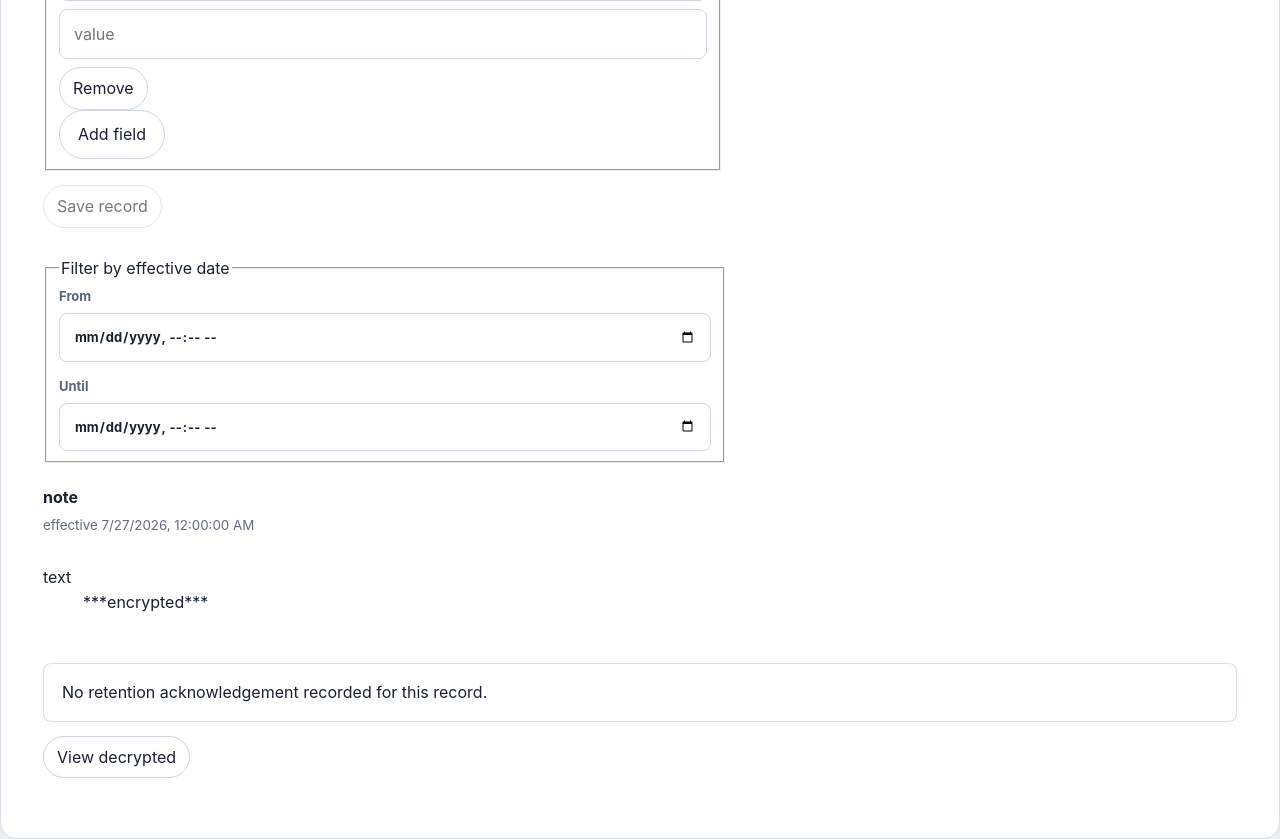
Scenario: RecordsPanel › fetches and shows the decrypted payload for a record with a redacted field
The width and height of the screenshot is (1280, 839).
(page scrolled)
Check: the text "***encrypted***" is shown, box [83,592,208,612]
Click the button "View decrypted": [117, 757] box [43,736,190,778]
(page scrolled)
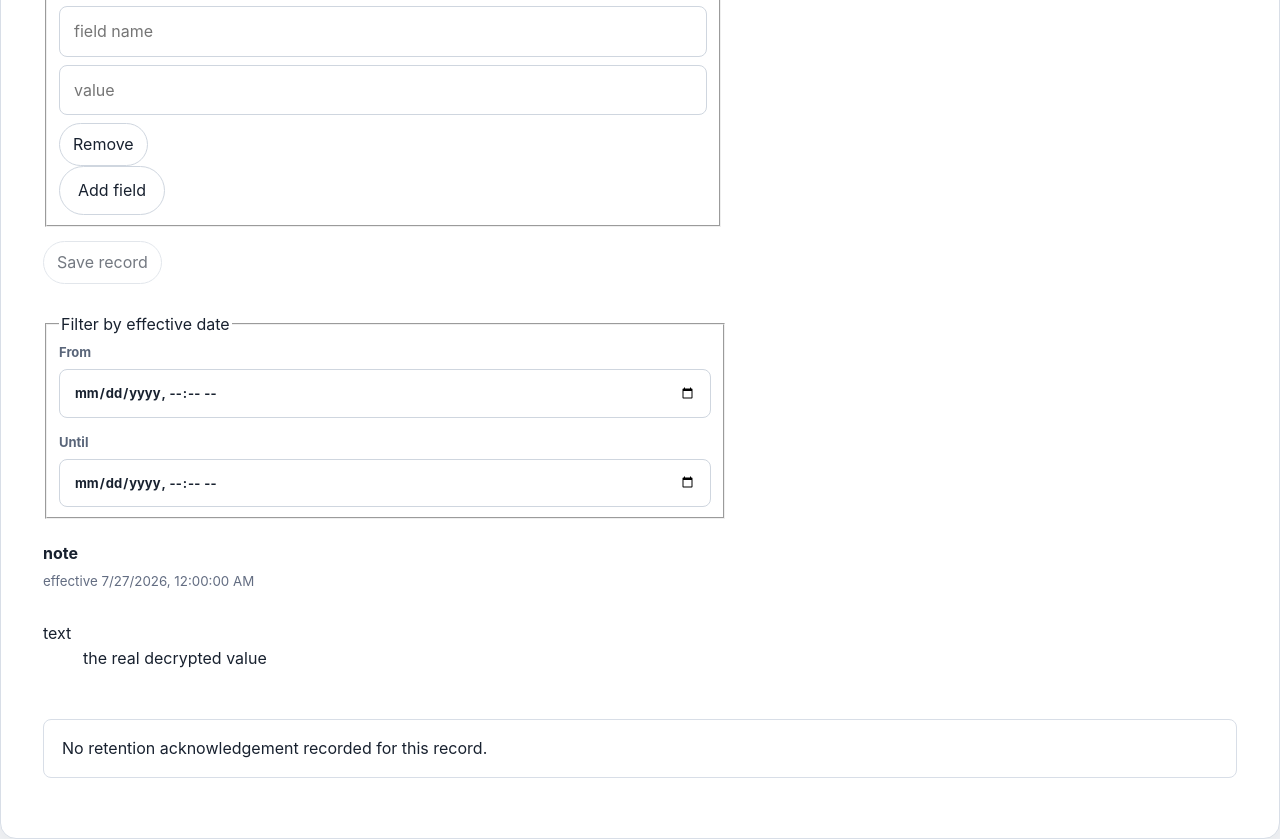
Check: the text "the real decrypted value" is shown, box [83,648,267,668]
